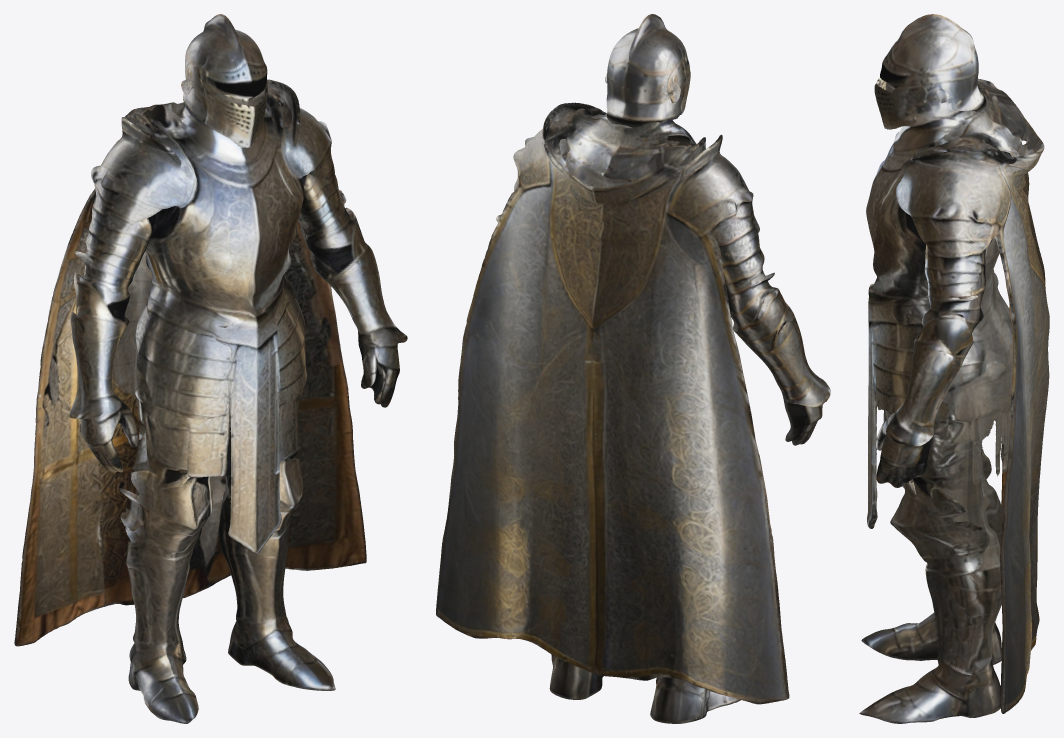
Rendered from medieval_knight.glb.
3 views of the same model, side by side, from view 1: azimuth 30°, elevation 25°; view 2: azimuth 150°, elevation 25°; view 3: azimuth 270°, elevation 25° (orthographic).
Parts seen in each view (by area): view 1: Object_4, Object_5, Object_6, Object_7; view 2: Object_4, Object_5, Object_6; view 3: Object_4, Object_5, Object_6, Object_7.
Boxes of the visible parts, <box> form: Object_4: <box>48,14,407,569</box>; Object_5: <box>14,178,366,723</box>; Object_6: <box>69,23,406,723</box>; Object_7: <box>191,177,305,375</box>; Object_4: <box>496,14,786,703</box>; Object_5: <box>436,134,804,723</box>; Object_6: <box>464,41,830,710</box>; Object_4: <box>866,14,1049,712</box>; Object_5: <box>861,142,1048,723</box>; Object_6: <box>859,25,1044,723</box>; Object_7: <box>869,161,928,382</box>.
Size of the model in its own units: 1.1 by 2 by 0.5165.
1 material, 1 textured.
